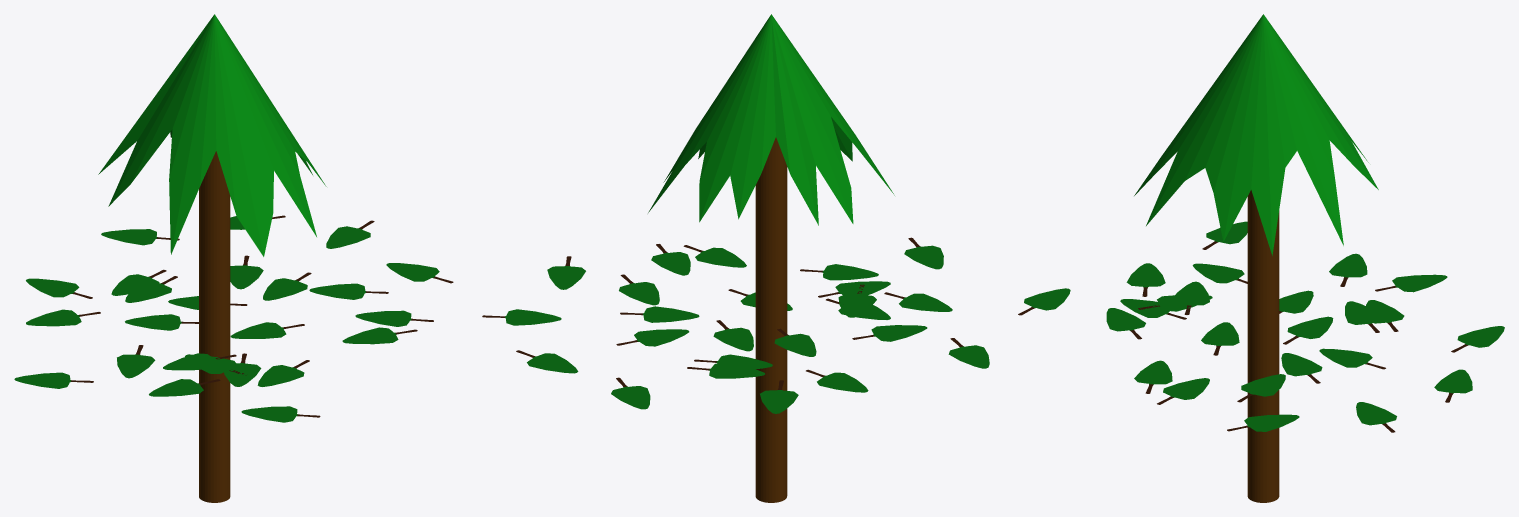
Rendered from treeState2.fbx.
3 renders of one model, left to right at view 1: azimuth 30°, elevation 25°; view 2: azimuth 150°, elevation 25°; view 3: azimuth 270°, elevation 25°, orthographic.
Parts seen in each view (by area): view 1: Cone.017, Cylinder.003, Plane.019, Plane.012, Plane.013, Plane.025, Plane.014, Plane.022, Plane.017, Plane.029, Plane.028, Plane.024 (+12 smaller); view 2: Cone.017, Cylinder.003, Plane.018, Plane.016, Plane.035, Plane.028, Plane.021, Plane.014, Plane.027, Plane.017, Plane.022, Plane.019 (+12 smaller); view 3: Cone.017, Cylinder.003, Plane.024, Plane.016, Plane.012, Plane.019, Plane.014, Plane.026, Plane.025, Plane.027, Plane.029, Plane.018 (+14 smaller).
Part boxes in pixels (<box>): Cone.017: <box>98,14,326,256</box>; Cylinder.003: <box>199,151,230,502</box>; Plane.019: <box>241,406,320,422</box>; Plane.012: <box>309,283,388,299</box>; Plane.013: <box>14,372,93,388</box>; Plane.025: <box>26,278,92,298</box>; Plane.014: <box>26,309,100,326</box>; Plane.022: <box>149,379,220,396</box>; Plane.017: <box>342,327,417,344</box>; Plane.029: <box>355,310,433,326</box>; Plane.028: <box>326,220,374,248</box>; Plane.024: <box>386,263,453,283</box>; Cone.017: <box>648,14,894,225</box>; Cylinder.003: <box>755,137,787,502</box>; Plane.018: <box>800,264,878,280</box>; Plane.016: <box>616,329,689,346</box>; Plane.035: <box>620,306,699,322</box>; Plane.028: <box>482,309,561,325</box>; Plane.021: <box>852,325,927,341</box>; Plane.014: <box>806,369,868,392</box>; Plane.027: <box>516,350,578,373</box>; Plane.017: <box>683,245,746,267</box>; Plane.022: <box>884,292,952,311</box>; Plane.019: <box>904,237,943,269</box>; Cone.017: <box>1134,14,1378,255</box>; Cylinder.003: <box>1247,190,1279,502</box>; Plane.024: <box>1227,414,1299,431</box>; Plane.016: <box>1319,348,1385,369</box>; Plane.012: <box>1237,374,1285,402</box>; Plane.019: <box>1018,288,1070,315</box>; Plane.014: <box>1329,253,1367,286</box>; Plane.026: <box>1451,326,1504,352</box>; Plane.025: <box>1375,274,1447,292</box>; Plane.027: <box>1434,369,1472,402</box>; Plane.029: <box>1157,378,1209,404</box>; Plane.018: <box>1106,308,1145,339</box>.
Bounding box in the file's own units: 77.32 × 82.37 × 75.37.
